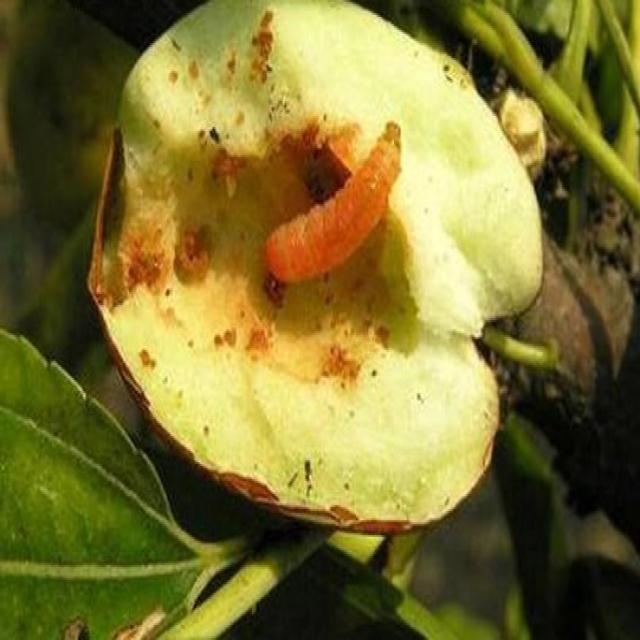peach borer: (265, 103, 404, 296)
